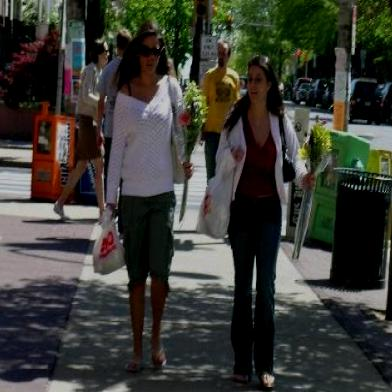ped: (96, 28, 208, 373), (202, 56, 316, 392), (58, 39, 112, 222)
